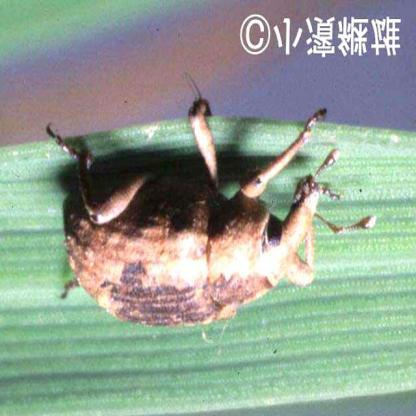rice-bug: (60, 134, 334, 330)
